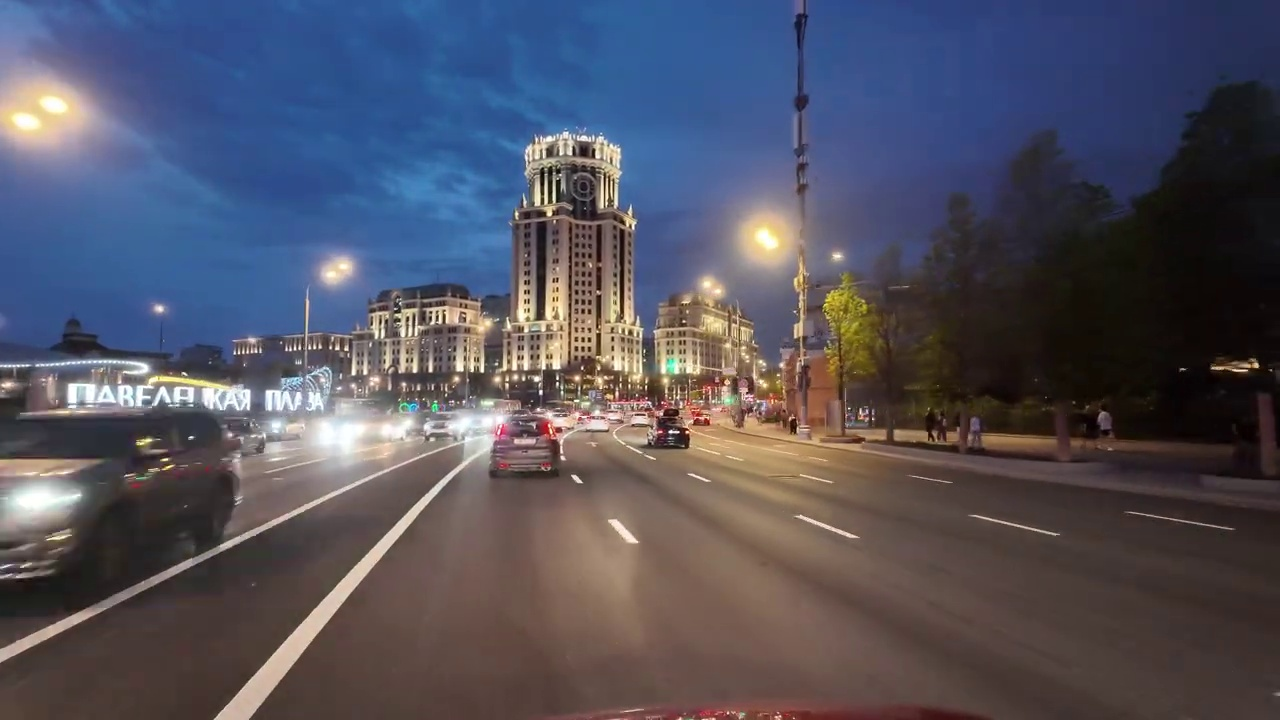acesa: (14, 89, 74, 133), (746, 218, 788, 260), (322, 257, 351, 284), (699, 276, 724, 301), (825, 246, 848, 267), (148, 299, 169, 319)
